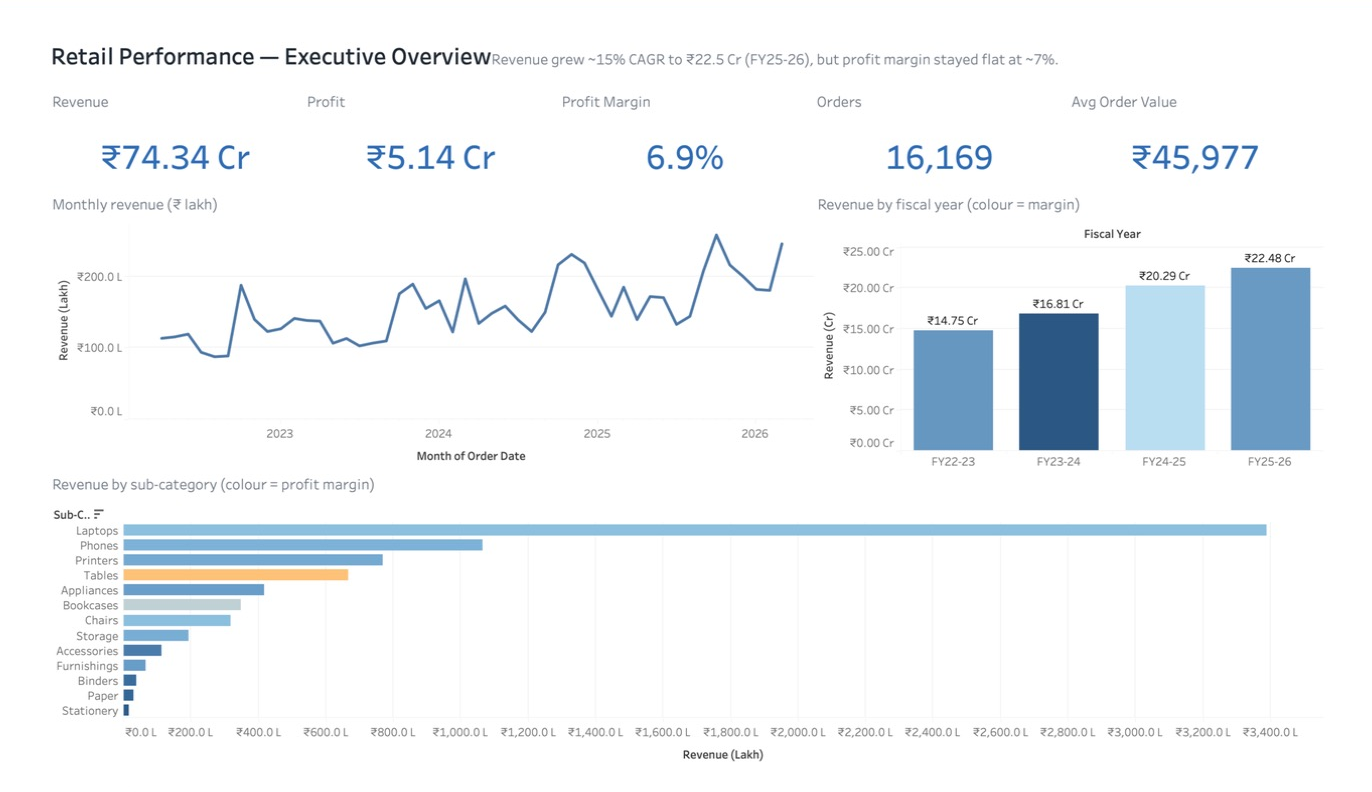

Layout of this report page (visuals, bound fields, positions):
{"tool":"tableau","page":{"name":"Executive Overview","canvas":[1366,800],"ordinal":0},"visuals":[{"type":"text","box":[0,0,1366,70]},{"type":"worksheet","title":"KPI Revenue","mark":"Text","box":[0,70,273,110]},{"type":"worksheet","title":"KPI Profit","mark":"Text","box":[273,70,273,110]},{"type":"worksheet","title":"KPI Margin","mark":"Text","box":[546,70,273,110]},{"type":"worksheet","title":"KPI Orders","mark":"Text","box":[819,70,273,110]},{"type":"worksheet","title":"KPI AOV","mark":"Text","box":[1092,70,273,110]},{"type":"worksheet","title":"Monthly Revenue Trend","mark":"Line","rows":["Calculation_1007"],"cols":["Order Date"],"box":[0,180,820,300]},{"type":"worksheet","title":"Revenue by Fiscal Year","mark":"Bar","rows":["Calculation_1001"],"cols":["Fiscal Year"],"box":[820,180,546,300]},{"type":"worksheet","title":"Sub-Category Revenue & Margin","mark":"Bar","rows":["Sub-Category"],"cols":["Calculation_1007"],"box":[0,480,1366,320]}]}

Visuals, with their boxes in screenshot pixels (x1, y1, x2, y2), scaled from the page's 1366x800 canvas onto the 1372x792 screenshot:
text: <bbox>0, 0, 1371, 69</bbox>
"KPI Revenue" worksheet (Text marks): <bbox>0, 69, 274, 178</bbox>
"KPI Profit" worksheet (Text marks): <bbox>274, 69, 548, 178</bbox>
"KPI Margin" worksheet (Text marks): <bbox>548, 69, 823, 178</bbox>
"KPI Orders" worksheet (Text marks): <bbox>823, 69, 1097, 178</bbox>
"KPI AOV" worksheet (Text marks): <bbox>1097, 69, 1371, 178</bbox>
"Monthly Revenue Trend" worksheet (Line marks): <bbox>0, 178, 824, 475</bbox>
"Revenue by Fiscal Year" worksheet (Bar marks): <bbox>824, 178, 1371, 475</bbox>
"Sub-Category Revenue & Margin" worksheet (Bar marks): <bbox>0, 475, 1371, 791</bbox>
